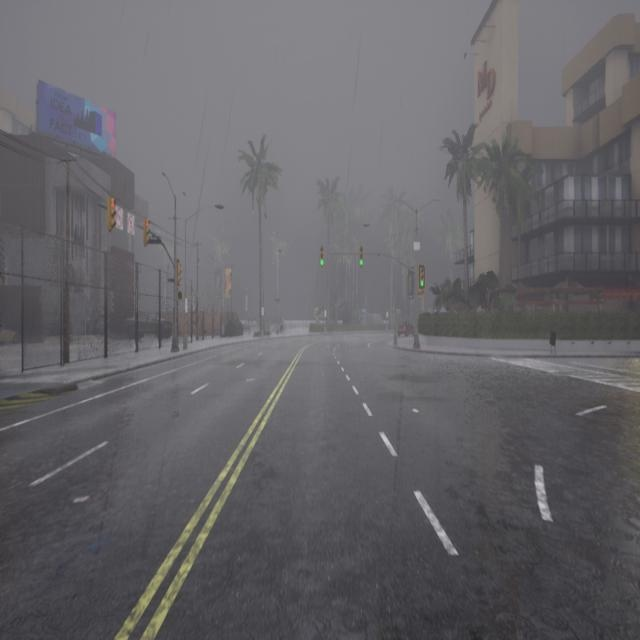bien_chi_dan: (107, 196, 117, 233), (143, 218, 150, 248), (176, 258, 182, 288), (420, 265, 426, 289), (319, 245, 325, 268), (358, 246, 364, 268), (109, 198, 116, 208), (359, 258, 364, 266), (420, 280, 424, 289), (145, 220, 150, 227), (177, 262, 181, 270), (320, 258, 324, 266)
